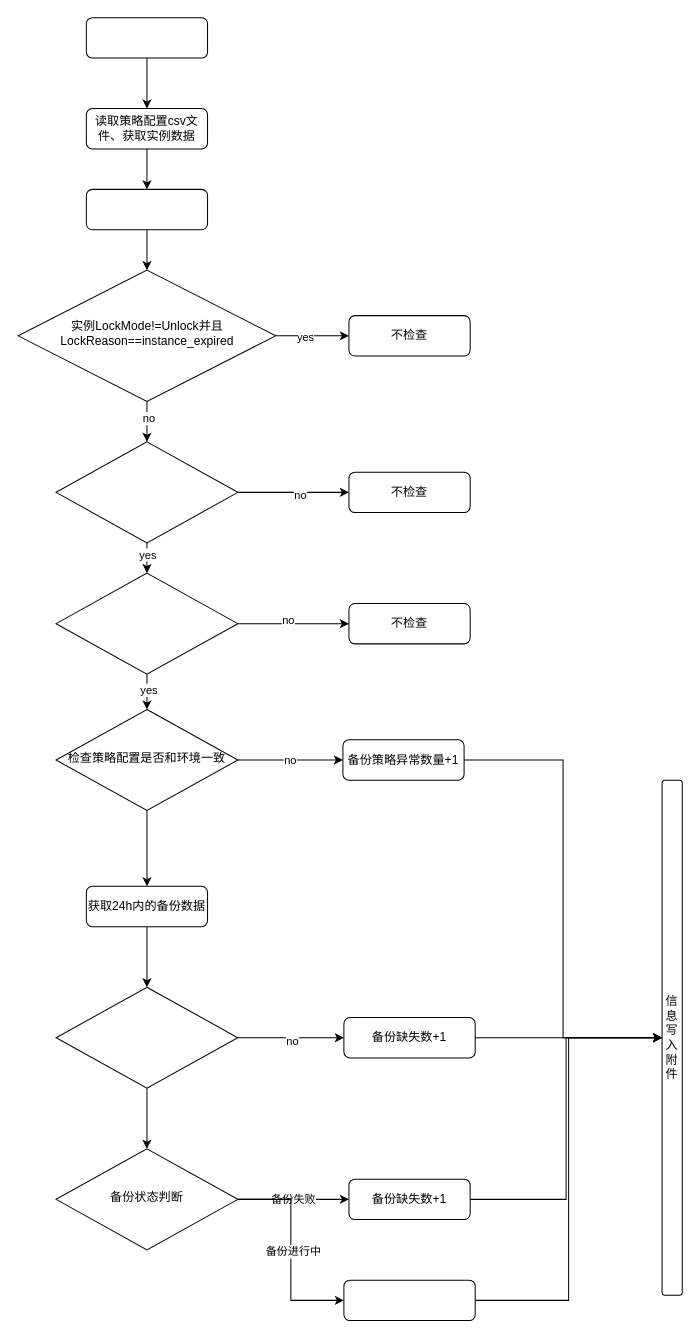
Some shapes in this 700 by 1338 pixel diagram are drawn without their labels. The box of each missing label's shape, as (x1, y1, x2, y2) in pixels:
备份是否生成: (55, 986, 238, 1088)
备份进行中数量+1: (343, 1279, 475, 1321)
实例今天是否需要进行备份检查: (55, 572, 238, 674)
循环实例数据: (85, 188, 208, 230)
环境在默认配置中，并且BAK不在desc中，restore不再desc中: (55, 441, 238, 543)
脚本执行: (85, 17, 208, 58)
